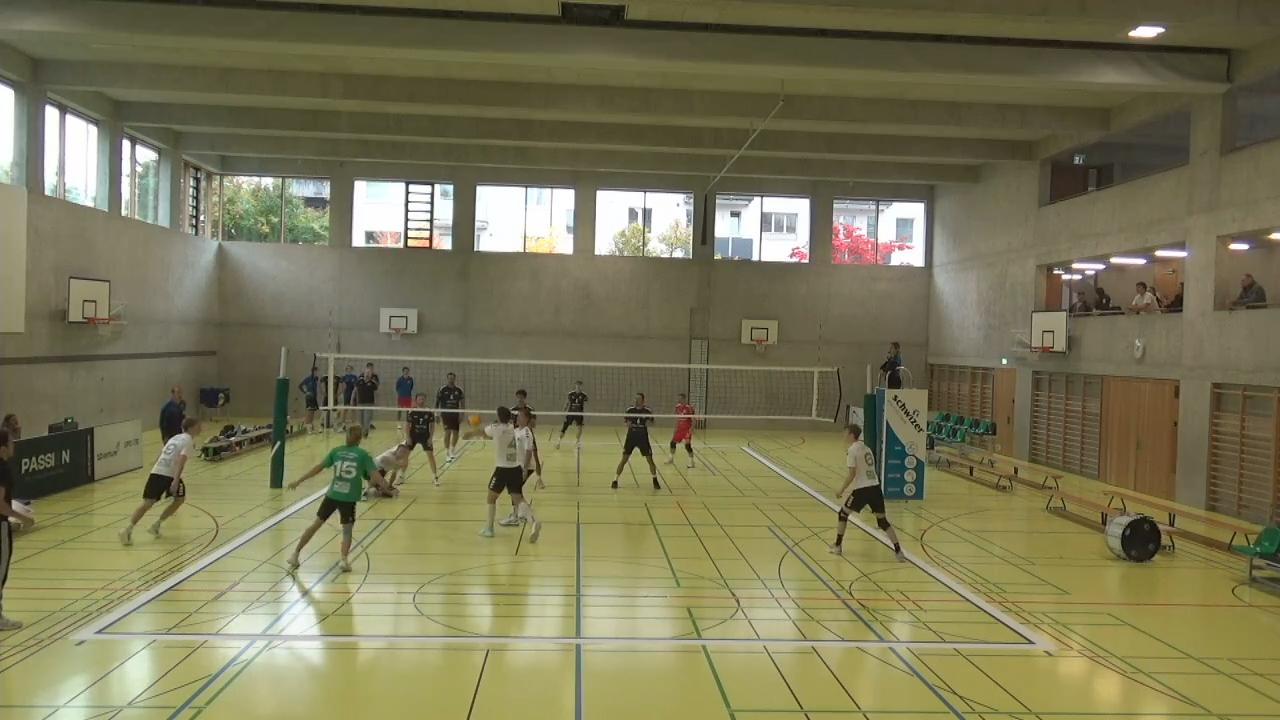Dig: (458, 413, 545, 547)
Player: (288, 426, 381, 572), (121, 413, 218, 546), (831, 422, 906, 554), (372, 414, 442, 491), (611, 393, 662, 491), (397, 394, 441, 491), (508, 390, 545, 494), (511, 409, 536, 525), (434, 372, 466, 460), (368, 434, 410, 499), (665, 394, 699, 469), (558, 380, 590, 451)
ball: (463, 408, 483, 432)
